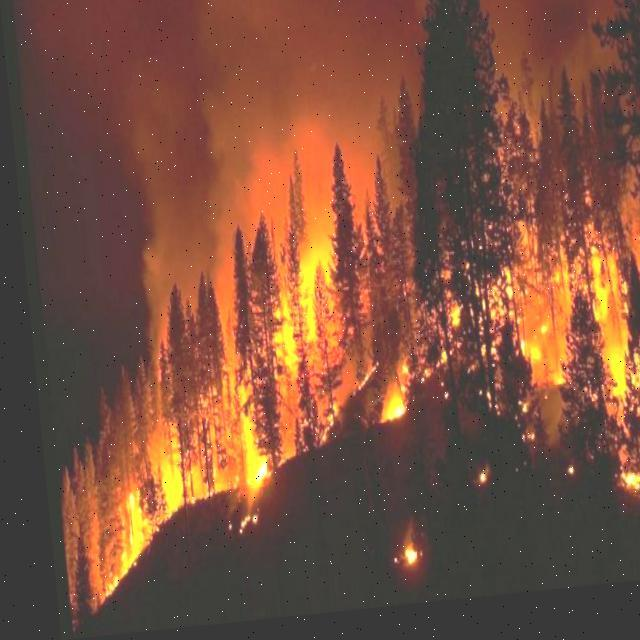Fire: (433, 228, 639, 526), (70, 423, 202, 602), (249, 252, 342, 394), (220, 386, 264, 506), (365, 366, 403, 436)
